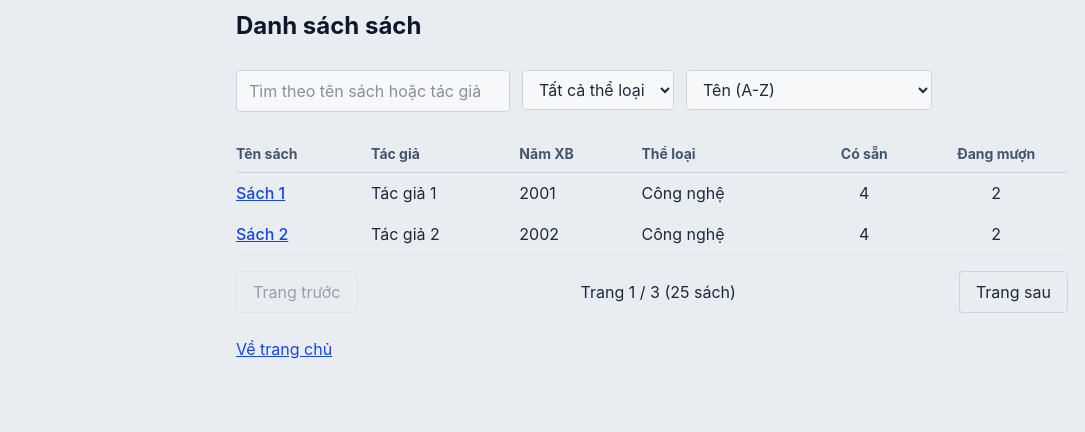
it: BookList › pages forward and back, disabling the ends
This screenshot has width=1085, height=432.
expect the table is shown: met, box [236,136,1068,255]
expect the button "Trang trước" is disabled: met, box [236,271,358,313]
Click the button "Trang sau": (1013, 292) [959,271,1068,313]
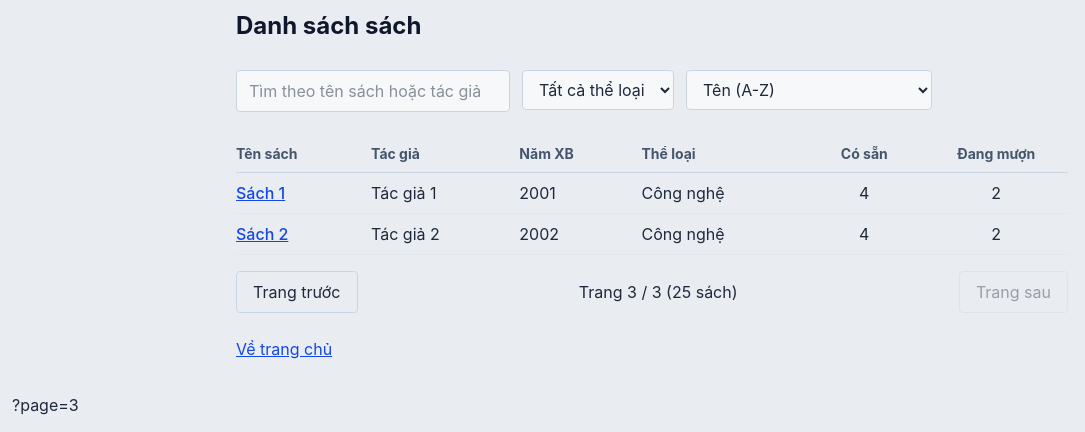
expect the button "Trang sau" is disabled: met, box [959,271,1068,313]
